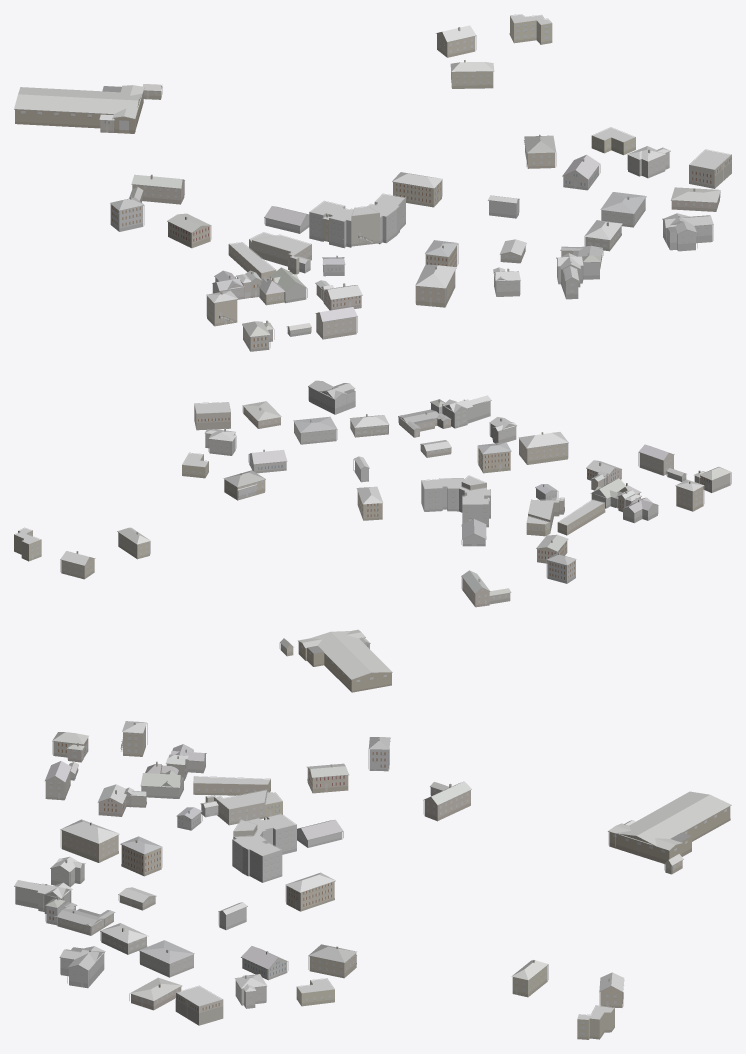
The picture shows the model from 3 angles, top to bottom: view 1: azimuth 30°, elevation 25°; view 2: azimuth 150°, elevation 25°; view 3: azimuth 270°, elevation 25°; orthographic projection. The views are drawn at different scales.
Visible parts, largest first — view 1: bld; view 2: bld; view 3: bld.
Boxes of the visible parts, left/top/right/bottom form: bld: left=14, top=14, right=731, bottom=351; bld: left=14, top=380, right=731, bottom=692; bld: left=14, top=721, right=731, bottom=1039.
Bounding box in the file's own units: 263 × 22.57 × 288.
